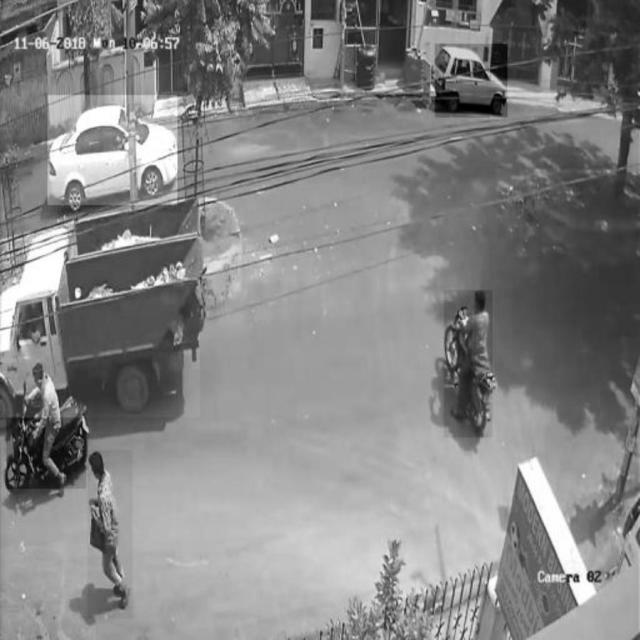person: (89, 450, 134, 618)
vehicle: (3, 212, 200, 418), (48, 95, 178, 205), (6, 365, 86, 489), (444, 291, 492, 438), (435, 44, 508, 117)
